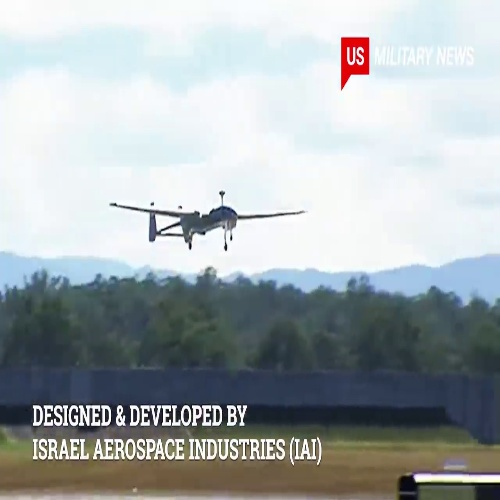uav9: (105, 191, 307, 252)
